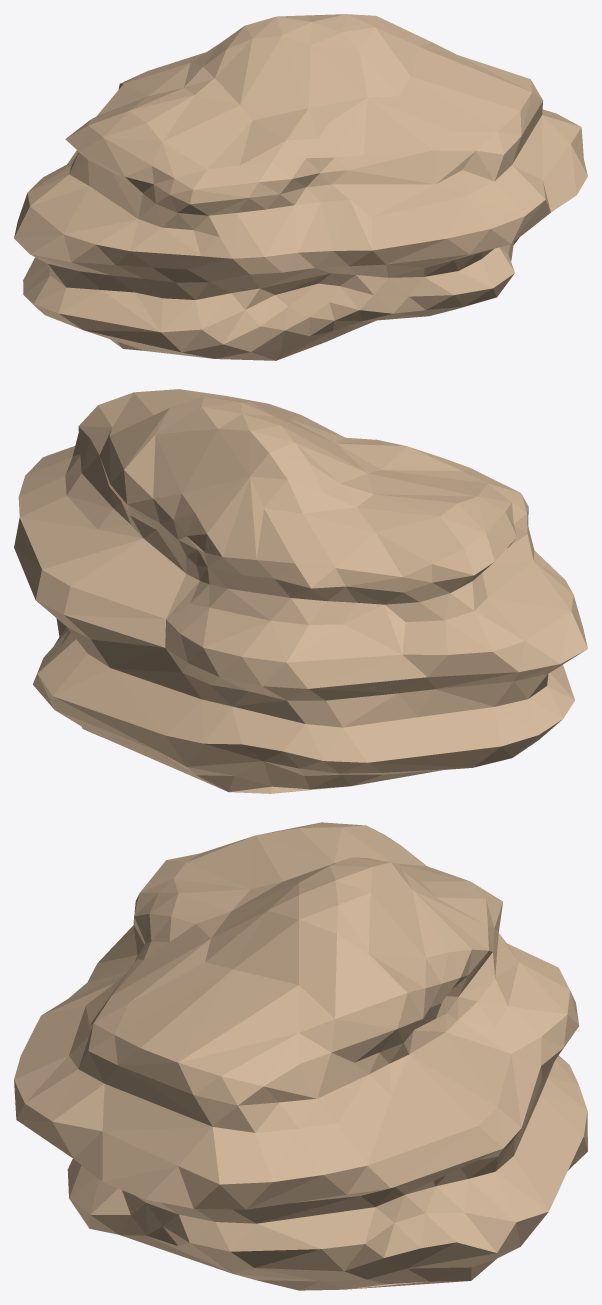
File: SM_DST_Rock_Boulder_A_Frac.fbx
3 views of the same model, one above another, from view 1: azimuth 30°, elevation 25°; view 2: azimuth 150°, elevation 25°; view 3: azimuth 270°, elevation 25° (orthographic). The views are drawn at different scales.
Visible parts, largest first — view 1: SM_DST_Rock_Boulder_A_p02, SM_DST_Rock_Boulder_A_p00, SM_DST_Rock_Boulder_A_p03, SM_DST_Rock_Boulder_A_p05, SM_DST_Rock_Boulder_A_p04, SM_DST_Rock_Boulder_A_p06; view 2: SM_DST_Rock_Boulder_A_p04, SM_DST_Rock_Boulder_A_p01, SM_DST_Rock_Boulder_A_p06, SM_DST_Rock_Boulder_A_p03, SM_DST_Rock_Boulder_A_p05, SM_DST_Rock_Boulder_A_p00, SM_DST_Rock_Boulder_A_p02; view 3: SM_DST_Rock_Boulder_A_p05, SM_DST_Rock_Boulder_A_p06, SM_DST_Rock_Boulder_A_p01, SM_DST_Rock_Boulder_A_p03, SM_DST_Rock_Boulder_A_p02, SM_DST_Rock_Boulder_A_p04, SM_DST_Rock_Boulder_A_p00.
Boxes of the visible parts, x1,y1,x2,y2 form: SM_DST_Rock_Boulder_A_p02: [237, 109, 535, 326]; SM_DST_Rock_Boulder_A_p00: [53, 147, 377, 360]; SM_DST_Rock_Boulder_A_p03: [119, 16, 401, 169]; SM_DST_Rock_Boulder_A_p05: [386, 21, 587, 281]; SM_DST_Rock_Boulder_A_p04: [14, 64, 170, 322]; SM_DST_Rock_Boulder_A_p06: [169, 14, 386, 65]; SM_DST_Rock_Boulder_A_p04: [141, 521, 587, 793]; SM_DST_Rock_Boulder_A_p01: [36, 486, 199, 770]; SM_DST_Rock_Boulder_A_p06: [116, 397, 297, 656]; SM_DST_Rock_Boulder_A_p03: [201, 396, 510, 536]; SM_DST_Rock_Boulder_A_p05: [14, 389, 275, 692]; SM_DST_Rock_Boulder_A_p00: [424, 457, 584, 704]; SM_DST_Rock_Boulder_A_p02: [265, 403, 485, 475]; SM_DST_Rock_Boulder_A_p05: [39, 936, 510, 1290]; SM_DST_Rock_Boulder_A_p06: [291, 878, 549, 1070]; SM_DST_Rock_Boulder_A_p01: [387, 1014, 575, 1283]; SM_DST_Rock_Boulder_A_p03: [181, 824, 452, 964]; SM_DST_Rock_Boulder_A_p02: [14, 882, 185, 1230]; SM_DST_Rock_Boulder_A_p04: [306, 822, 587, 1170]; SM_DST_Rock_Boulder_A_p00: [128, 845, 225, 930].
Size of the model in its own units: 2.45 by 1.2 by 1.81.
